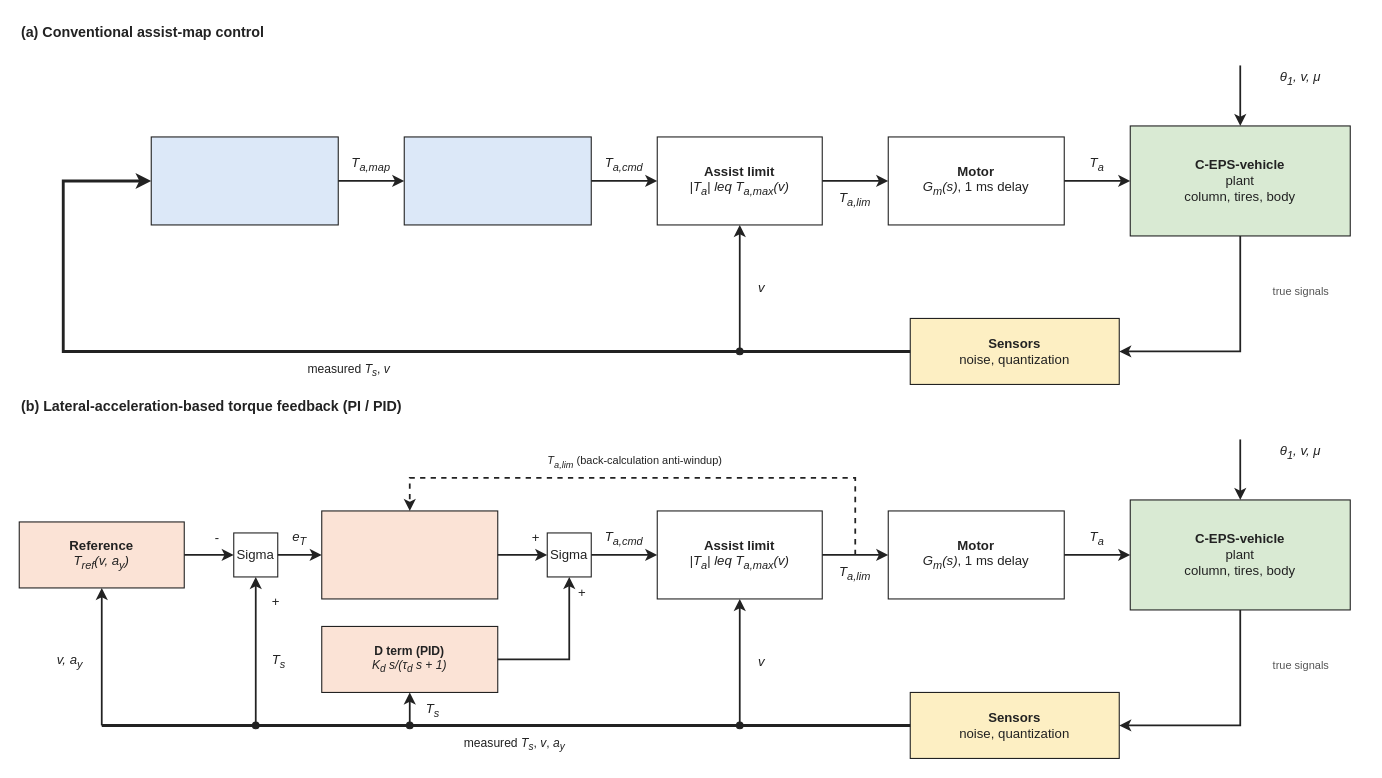
The diagram is 1382 pixels wide and 778 high, and some of its shapes have lost their labels. The centre of each missing label's shape, as x and y in pixels:
"Assist map M(v, T s )" goes at (244,180).
"Lead-lag C map (s)" goes at (497,180).
"PI / PID K p + K i /s" goes at (409,554).
